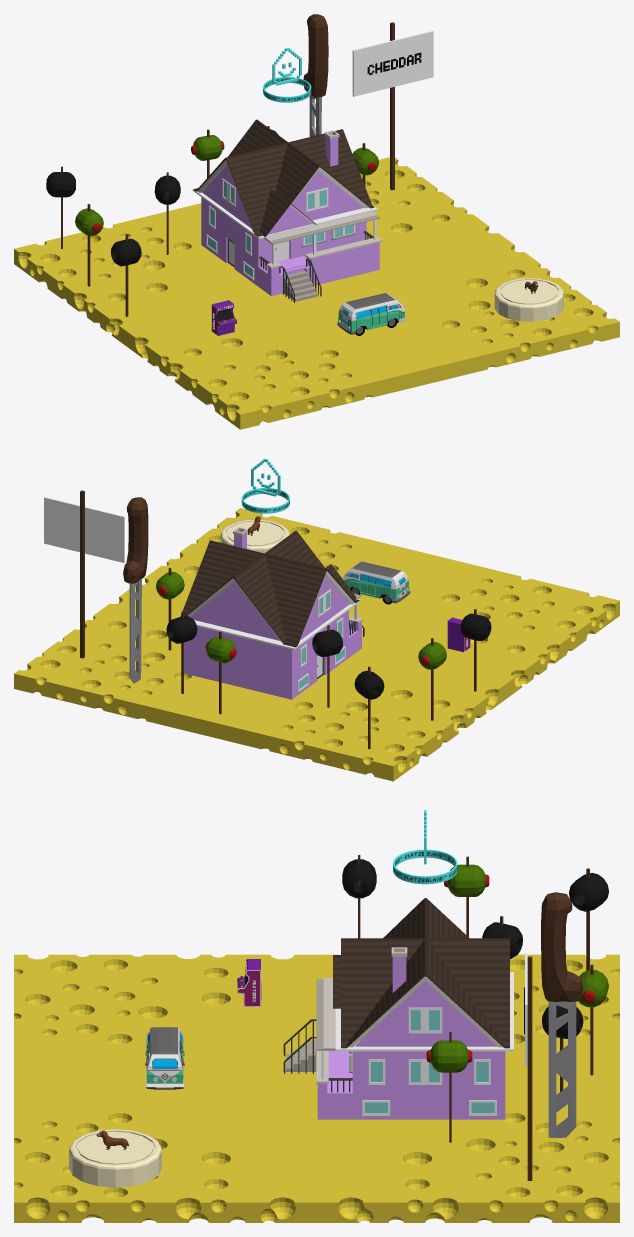
3 renders of one model, top to bottom at view 1: azimuth 30°, elevation 25°; view 2: azimuth 150°, elevation 25°; view 3: azimuth 270°, elevation 25°, orthographic. The views are drawn at different scales.
Parts seen in each view (by area): view 1: Cube.022, Cube.391, Cube.023, Cylinder.016, Cube.024, VEHICLES_VAN, TYPE_PREMIUM, Sphere.017, Sphere.018, Sphere.016, Sphere.020, OBJRANDOM_ARCADE (+2 smaller); view 2: Cube.022, Cube.391, Cube.023, Cube.024, VEHICLES_VAN, Cylinder.016, TYPE_PREMIUM, Sphere.021, Sphere.017, Sphere.020, Sphere.022, Sphere.016 (+3 smaller); view 3: Cube.022, Cube.391, Cube.024, Cylinder.016, VEHICLES_VAN, Cube.023, Sphere.019, Sphere.016, TYPE_PREMIUM, Sphere.017, Sphere.018, Sphere.022 (+3 smaller).
Part boxes in pixels (x1=…): Cube.022: x1=14, y1=157, x2=619, y2=429; Cube.391: x1=192, y1=119, x2=382, y2=302; Cube.023: x1=352, y1=22, x2=433, y2=190; Cylinder.016: x1=494, y1=278, x2=563, y2=321; Cube.024: x1=303, y1=14, x2=328, y2=136; VEHICLES_VAN: x1=337, y1=293, x2=406, y2=335; TYPE_PREMIUM: x1=263, y1=47, x2=311, y2=102; Sphere.017: x1=111, y1=234, x2=141, y2=316; Sphere.018: x1=75, y1=204, x2=103, y2=286; Sphere.016: x1=46, y1=166, x2=75, y2=248; Sphere.020: x1=154, y1=172, x2=180, y2=254; OBJRANDOM_ARCADE: x1=211, y1=300, x2=236, y2=335; Cube.022: x1=14, y1=508, x2=619, y2=781; Cube.391: x1=179, y1=527, x2=364, y2=699; Cube.023: x1=44, y1=490, x2=124, y2=658; Cube.024: x1=123, y1=497, x2=148, y2=683; VEHICLES_VAN: x1=343, y1=561, x2=410, y2=604; Cylinder.016: x1=220, y1=519, x2=289, y2=553; TYPE_PREMIUM: x1=241, y1=458, x2=289, y2=513; Sphere.021: x1=166, y1=611, x2=197, y2=693; Sphere.017: x1=460, y1=609, x2=491, y2=691; Sphere.020: x1=312, y1=625, x2=342, y2=707; Sphere.022: x1=205, y1=631, x2=236, y2=714; Sphere.016: x1=354, y1=666, x2=384, y2=749; Cube.022: x1=14, y1=954, x2=619, y2=1222; Cube.391: x1=283, y1=898, x2=513, y2=1119; Cube.024: x1=541, y1=892, x2=583, y2=1137; Cylinder.016: x1=69, y1=1129, x2=161, y2=1187; VEHICLES_VAN: x1=145, y1=1027, x2=184, y2=1089; Cube.023: x1=524, y1=953, x2=532, y2=1180; Sphere.019: x1=426, y1=1032, x2=472, y2=1142; Sphere.016: x1=569, y1=868, x2=608, y2=970; TYPE_PREMIUM: x1=393, y1=810, x2=457, y2=884; Sphere.017: x1=342, y1=855, x2=376, y2=938; Sphere.018: x1=444, y1=856, x2=489, y2=936; Sphere.022: x1=578, y1=964, x2=608, y2=1075.
Size of the model in its own units: 3917 by 2325 by 4000.
45 materials, 4 textured.
